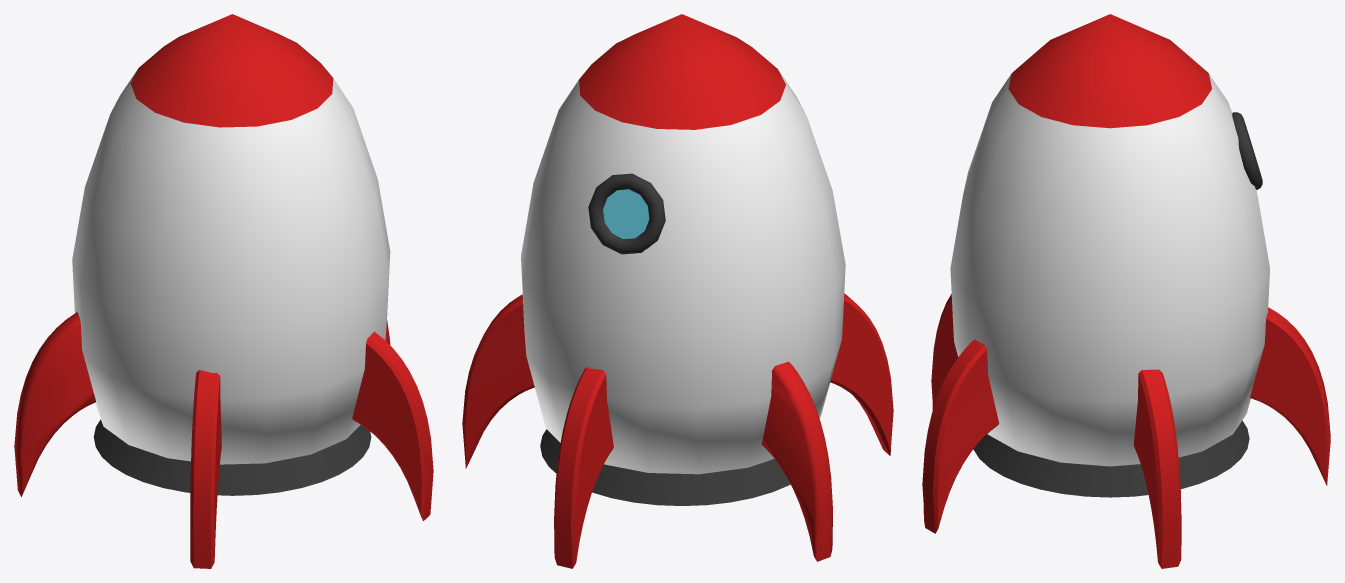
Rendered from PU_Rocket.fbx.
The picture shows the model from 3 angles, left to right: view 1: azimuth 30°, elevation 25°; view 2: azimuth 150°, elevation 25°; view 3: azimuth 270°, elevation 25°; orthographic projection. The views are drawn at different scales.
Visible parts, largest first — view 1: PU_rocket; view 2: PU_rocket; view 3: PU_rocket.
Part boxes in pixels (x1,y1,x2,y2): PU_rocket: (14, 14, 433, 568); PU_rocket: (462, 14, 893, 568); PU_rocket: (922, 14, 1330, 568).
Bounding box in the file's own units: 121 × 146 × 116.
